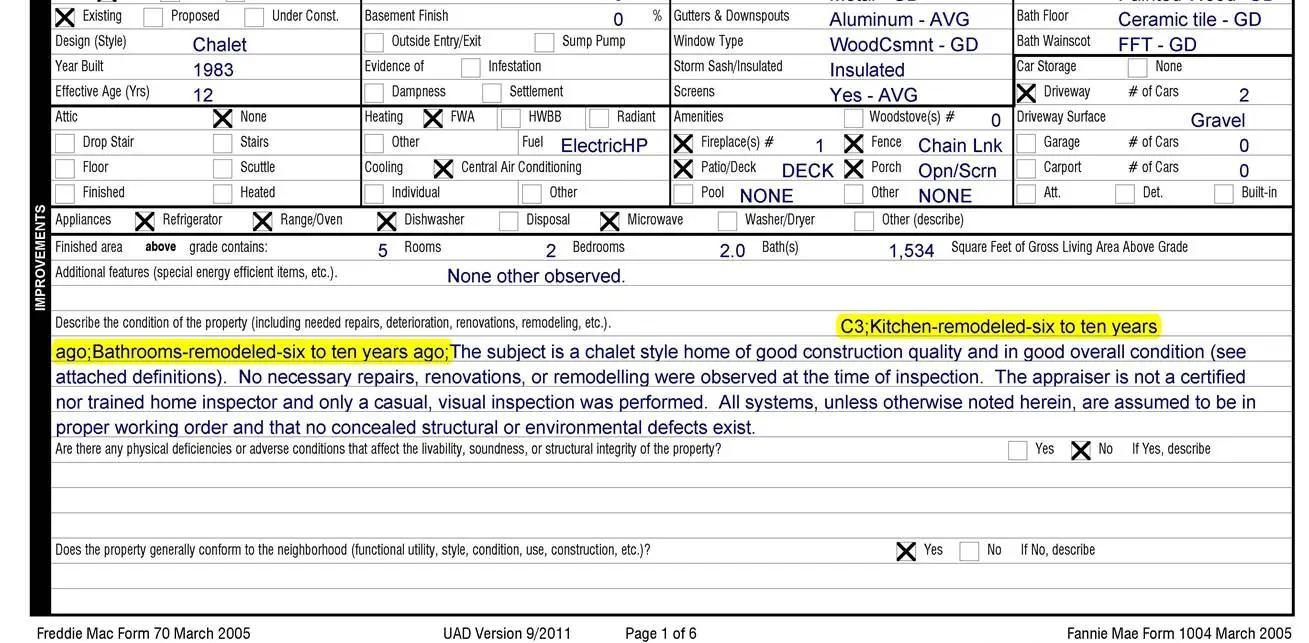checked: (375, 210, 400, 235), (211, 106, 237, 130), (432, 157, 456, 182), (251, 211, 275, 236), (894, 540, 918, 565), (422, 107, 446, 131), (842, 157, 866, 181), (1016, 81, 1040, 105), (54, 6, 77, 31), (133, 209, 158, 232), (672, 131, 695, 156), (843, 132, 866, 157), (1070, 438, 1093, 463), (672, 156, 695, 180), (598, 210, 622, 233)
unchecked: (53, 157, 78, 182), (361, 131, 386, 156), (852, 208, 877, 233), (1005, 438, 1030, 463), (957, 538, 982, 563), (209, 157, 235, 181), (1014, 180, 1038, 206), (361, 183, 388, 206), (211, 132, 235, 157), (841, 183, 866, 207), (363, 30, 387, 55), (1211, 182, 1236, 206), (716, 208, 740, 233), (669, 183, 696, 205), (141, 6, 165, 30), (843, 107, 867, 131), (1126, 56, 1150, 80), (1113, 181, 1137, 205), (210, 182, 235, 205), (53, 182, 78, 205), (520, 182, 545, 205), (53, 132, 77, 155), (363, 81, 386, 105), (496, 210, 520, 233), (1014, 157, 1038, 180), (460, 55, 482, 80), (243, 6, 265, 30), (532, 31, 556, 53), (498, 108, 522, 130), (586, 108, 611, 129), (481, 80, 503, 103), (1016, 131, 1038, 154)
